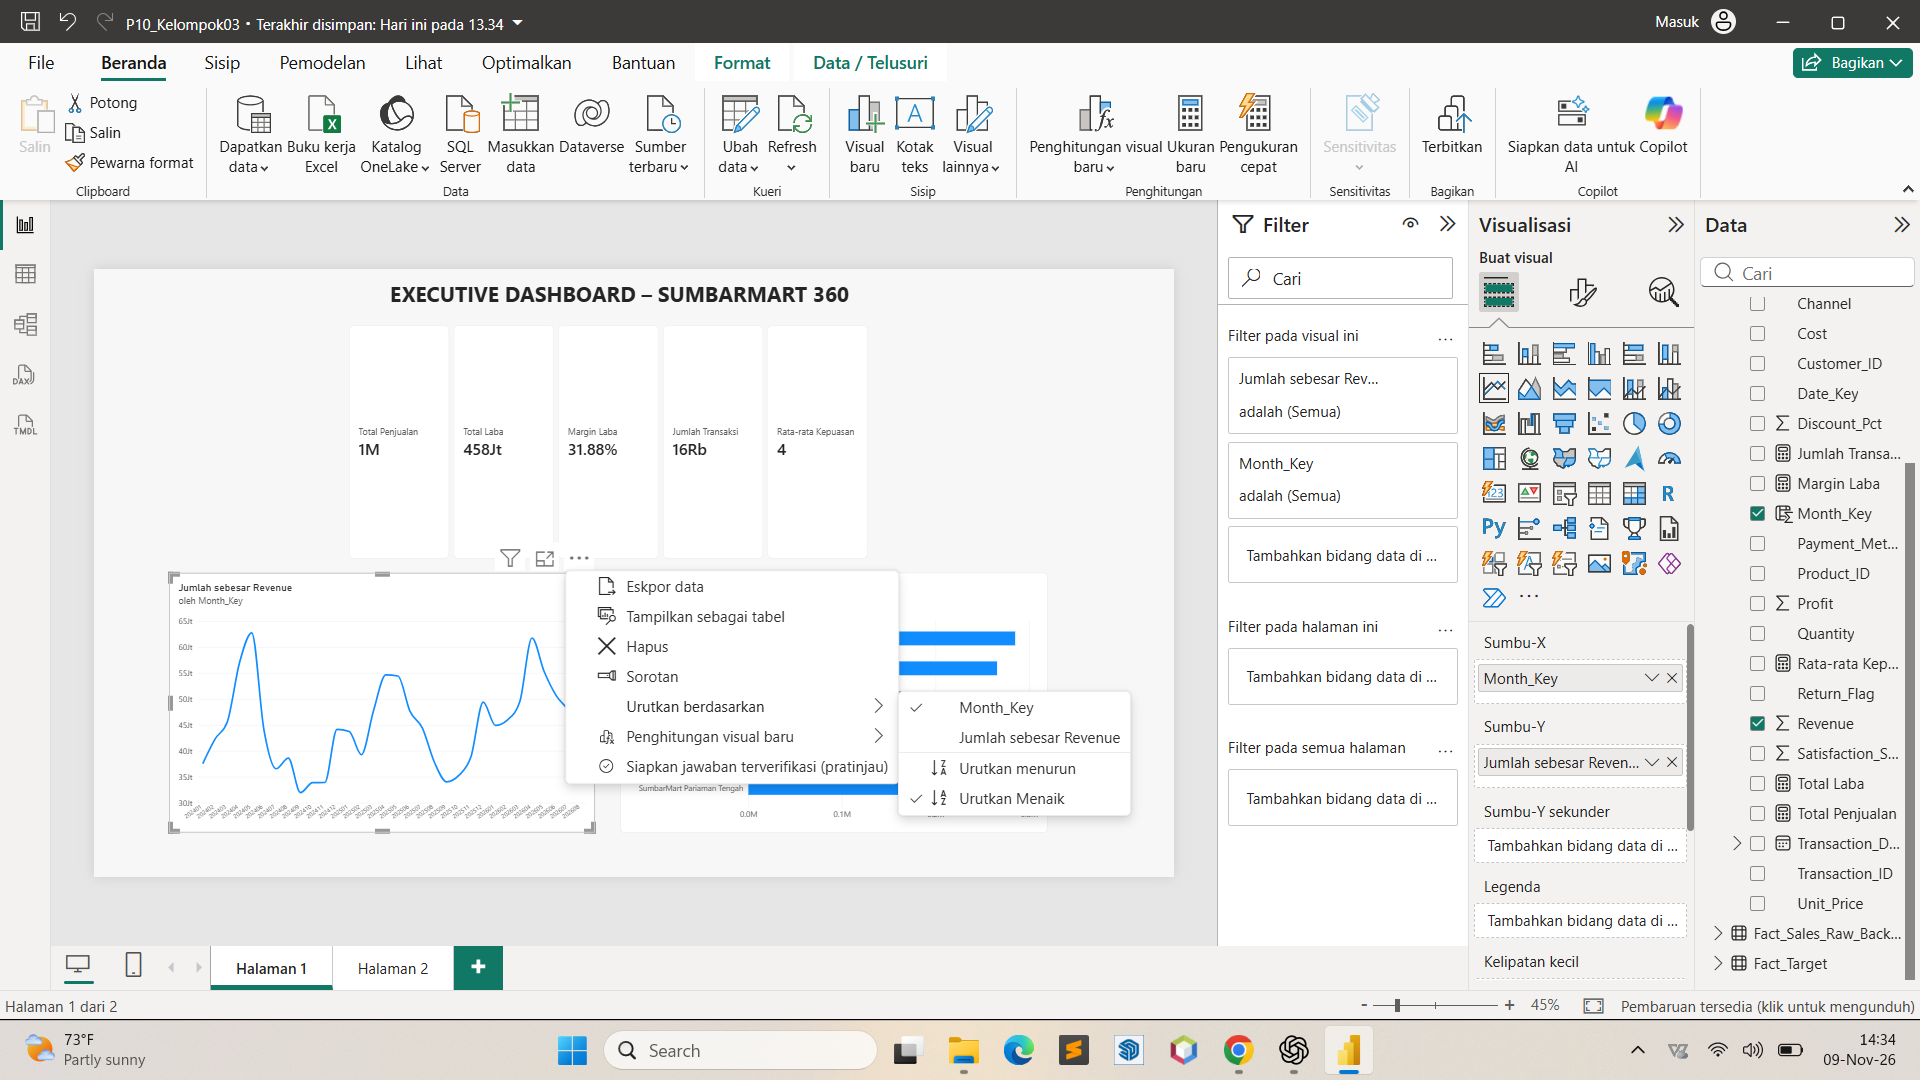

Layout of this report page (visuals, bound fields, positions):
{"tool":"powerbi","page":{"name":"Halaman 1","canvas":[1920,1080],"ordinal":0},"visuals":[{"type":"cardVisual","fields":{"Data":["Fact_Sales.Total Penjualan","Fact_Sales.Total Laba","Fact_Sales.Margin Laba","Fact_Sales.Jumlah Transaksi","Fact_Sales.Rata-rata Kepuasan"]},"box":[102.9,100.9,893.3,422],"z":1},{"type":"textbox","box":[351.1,17.8,1166.7,82.2],"z":2},{"type":"lineChart","fields":{"Category":["Fact_Sales.Month_Key"],"Y":["Sum(Fact_Sales.Revenue)"]},"box":[1023,100.9,773.9,422],"z":3},{"type":"clusteredBarChart","fields":{"Category":["Dim_Branch.Branch_Name"],"Y":["Fact_Sales.Total Penjualan"]},"box":[102.9,539.3,893.3,463.1],"z":4},{"type":"clusteredBarChart","fields":{"Category":["Dim_Product.Product_Name"],"Y":["Fact_Sales.Total Penjualan"]},"box":[1023,539.3,773.9,463.1],"z":5}]}

Visuals, with their boxes on the page's 1920x1080 design canvas (x1, y1, x2, y2). These are canvas units, not pixel positions in the 1920x1080 screenshot, which may show the page scaled, cropped or inside an application window:
cardVisual - Fact_Sales.Total Penjualan x Fact_Sales.Total Laba: locate(103, 101, 996, 523)
textbox: locate(351, 18, 1518, 100)
lineChart - Fact_Sales.Month_Key x Sum(Fact_Sales.Revenue): locate(1023, 101, 1797, 523)
clusteredBarChart - Dim_Branch.Branch_Name x Fact_Sales.Total Penjualan: locate(103, 539, 996, 1002)
clusteredBarChart - Dim_Product.Product_Name x Fact_Sales.Total Penjualan: locate(1023, 539, 1797, 1002)
